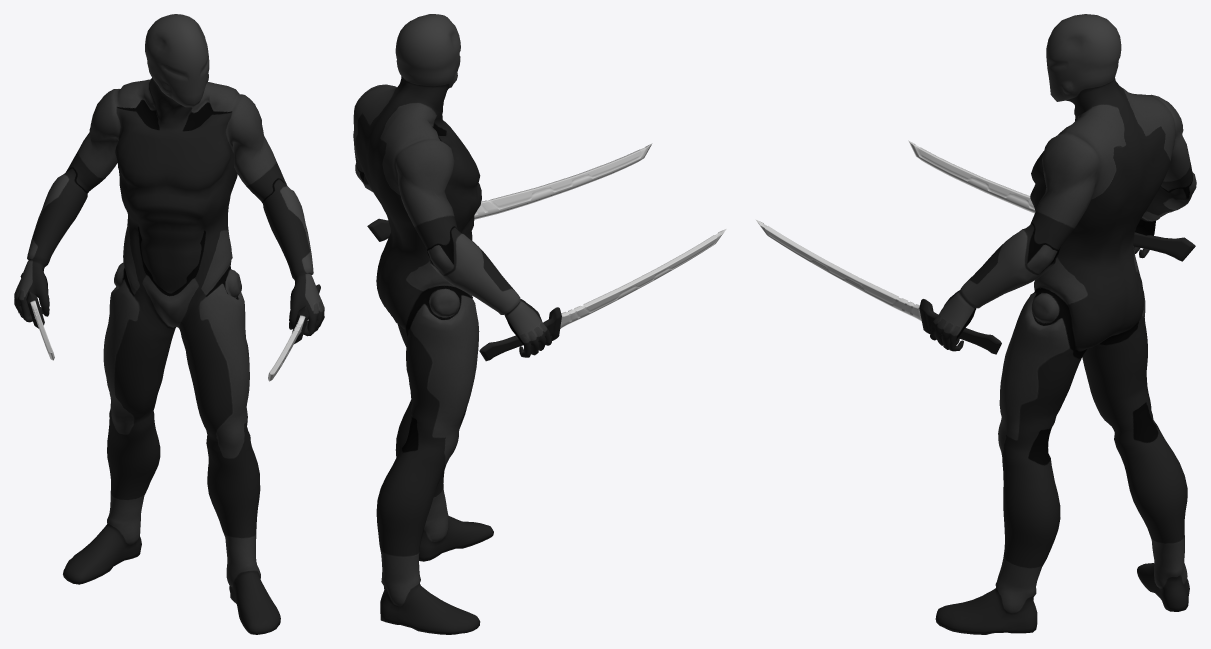
3 renders of one model, left to right at view 1: azimuth 30°, elevation 25°; view 2: azimuth 150°, elevation 25°; view 3: azimuth 270°, elevation 25°, orthographic. The views are drawn at different scales.
Parts seen in each view (by area): view 1: Cyborg_Ninja_Killer, Sword_l, Sword_l001; view 2: Cyborg_Ninja_Killer, Sword_l001, Sword_l; view 3: Cyborg_Ninja_Killer, Sword_l, Sword_l001.
Part boxes in pixels (x1,y1,x2,y2): Cyborg_Ninja_Killer: [14, 14, 324, 634]; Sword_l: [268, 284, 320, 381]; Sword_l001: [20, 273, 54, 360]; Cyborg_Ninja_Killer: [353, 14, 551, 634]; Sword_l001: [479, 229, 726, 361]; Sword_l: [367, 143, 652, 241]; Cyborg_Ninja_Killer: [930, 14, 1196, 634]; Sword_l: [755, 219, 1001, 354]; Sword_l001: [908, 140, 1195, 261].
Bounding box in the file's own units: 105 × 182 × 123.
2 materials, 2 textured.
